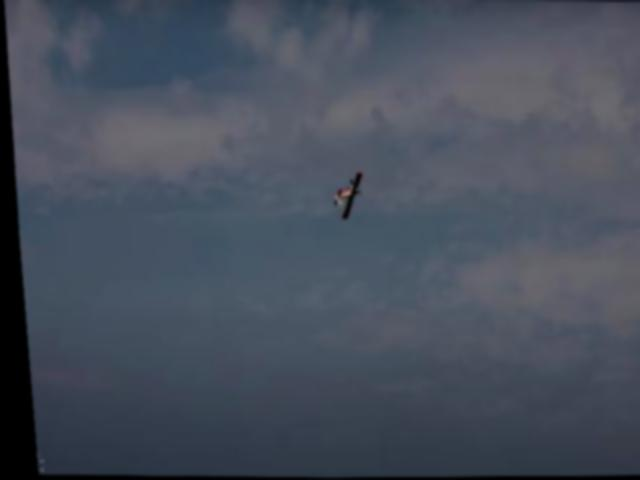uav: (323, 165, 365, 226)
